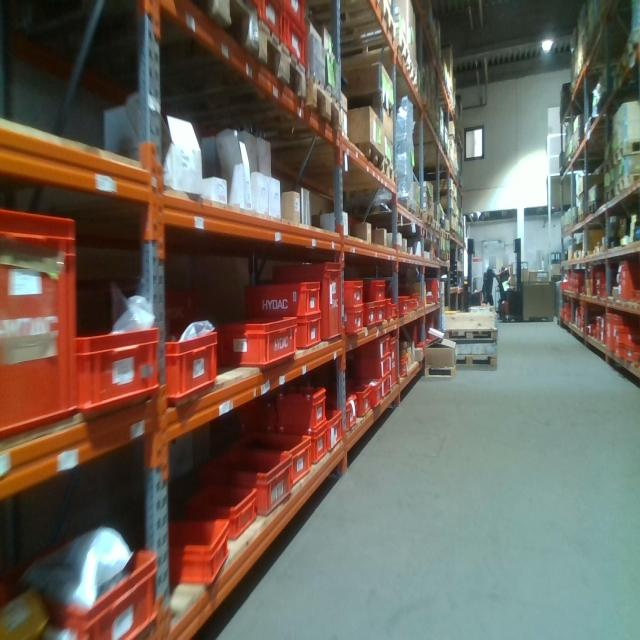pallet: (161, 22, 308, 129), (226, 78, 345, 142), (146, 2, 260, 63), (334, 32, 415, 95), (290, 1, 396, 46), (275, 142, 384, 183), (329, 162, 398, 196), (347, 193, 413, 219), (338, 91, 395, 121), (456, 353, 500, 376), (445, 325, 498, 342), (614, 138, 638, 169), (614, 170, 640, 197), (584, 201, 603, 221), (422, 209, 437, 231), (602, 186, 618, 205), (572, 138, 586, 159), (415, 202, 425, 229), (604, 156, 616, 178), (433, 221, 442, 233), (440, 251, 445, 262), (439, 233, 446, 239)
pallet_truck: (497, 227, 530, 321), (464, 233, 486, 304)
small_load_carrier: (0, 204, 82, 445), (16, 533, 162, 637), (76, 325, 161, 414), (269, 261, 344, 349), (198, 451, 295, 512), (149, 514, 231, 583), (162, 329, 224, 411), (210, 313, 294, 370), (233, 428, 313, 487), (185, 478, 258, 538), (241, 276, 322, 315), (273, 383, 326, 435), (284, 19, 311, 80), (258, 3, 284, 49), (334, 389, 360, 430), (299, 315, 322, 359), (312, 417, 331, 468), (342, 310, 367, 348), (328, 403, 346, 455), (340, 273, 367, 306), (356, 354, 394, 376), (390, 332, 402, 399), (619, 256, 636, 300), (357, 378, 373, 422), (366, 372, 385, 409), (604, 311, 620, 354), (369, 302, 388, 338), (356, 335, 390, 354), (285, 2, 307, 31), (365, 281, 389, 304), (396, 289, 413, 315), (622, 345, 638, 372), (591, 263, 601, 300), (381, 372, 394, 398), (612, 324, 628, 345), (365, 305, 377, 332), (626, 327, 640, 347), (615, 345, 625, 362), (389, 300, 398, 318), (593, 284, 604, 297), (595, 272, 604, 284), (585, 324, 593, 337), (632, 287, 638, 301), (596, 310, 600, 328), (596, 332, 600, 344)
